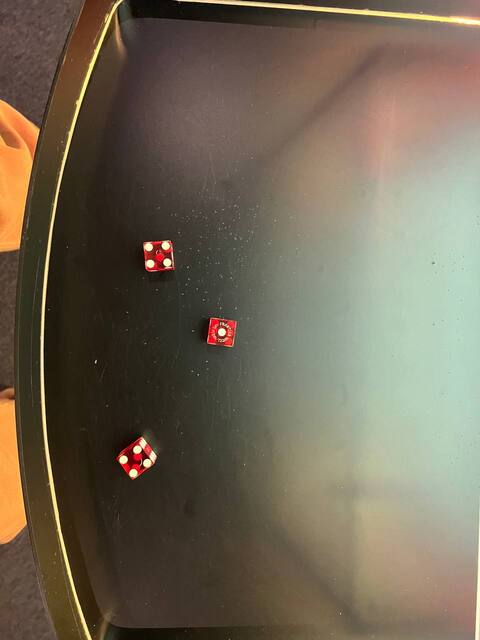four: (139, 235, 183, 275), (115, 443, 154, 480)
one: (204, 314, 237, 349)
